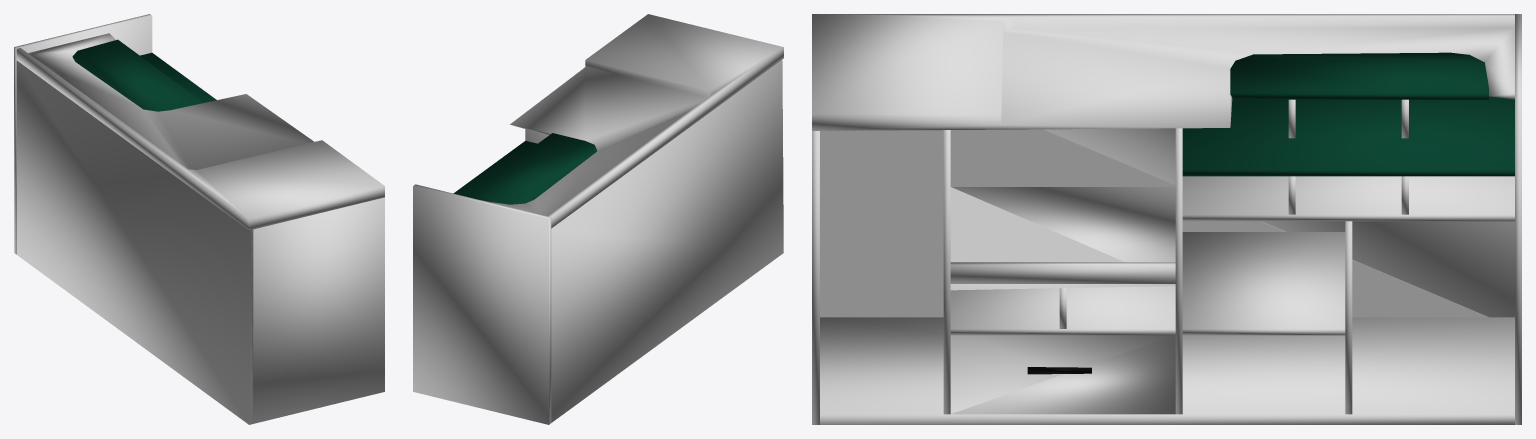
The model's file is GFG-01.obj.
3 views of the same model, side by side, from view 1: azimuth 30°, elevation 25°; view 2: azimuth 150°, elevation 25°; view 3: azimuth 270°, elevation 25° (orthographic). The views are drawn at different scales.
Bounding box in the file's own units: 5.07 × 7.28 × 15.
